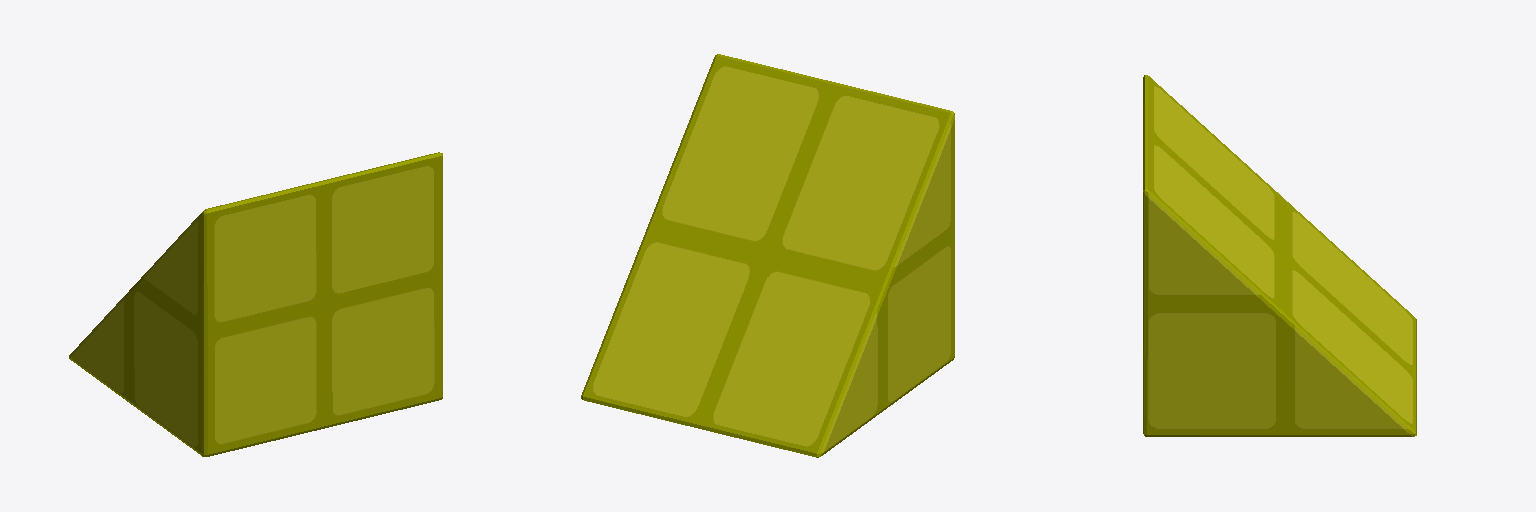
The picture shows the model from 3 angles: view 1: azimuth 30°, elevation 25°; view 2: azimuth 150°, elevation 25°; view 3: azimuth 270°, elevation 25°; orthographic projection.
Visible parts, largest first — view 1: pCube6_Mesh.010; view 2: pCube6_Mesh.010; view 3: pCube6_Mesh.010.
Part boxes in pixels (left/top/right/bottom): pCube6_Mesh.010: left=69, top=152, right=442, bottom=456; pCube6_Mesh.010: left=581, top=54, right=954, bottom=457; pCube6_Mesh.010: left=1143, top=75, right=1416, bottom=436.
Size of the model in its own units: 2 by 1.97 by 1.97.
Materials: 1 (1 with a texture image).